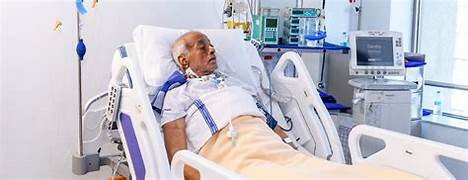monitoring system: (347, 27, 410, 113)
patient: (173, 30, 236, 123)
